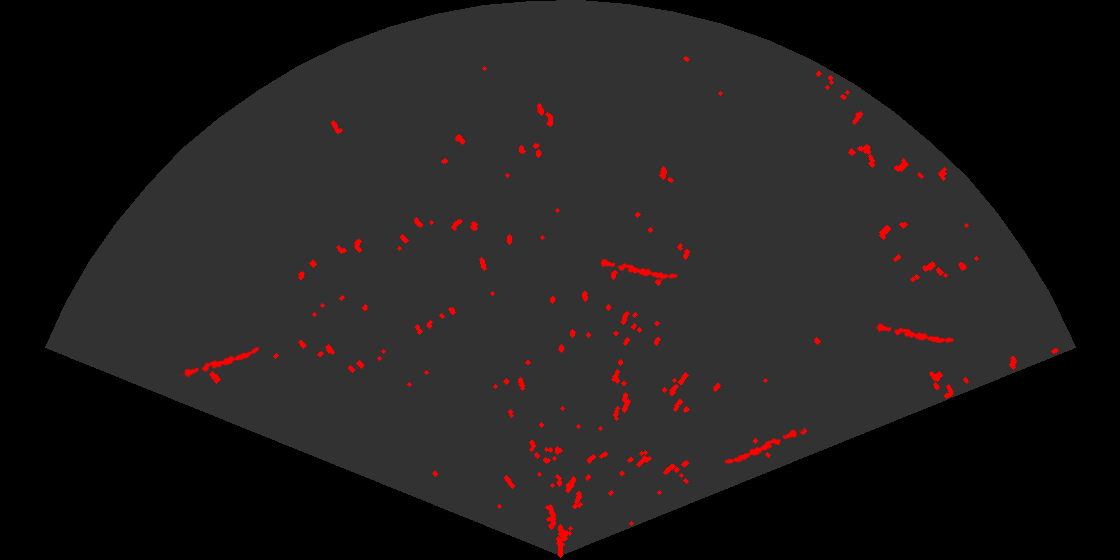chain: (723, 427, 804, 465), (180, 345, 262, 379), (595, 257, 679, 281), (872, 322, 956, 345)
